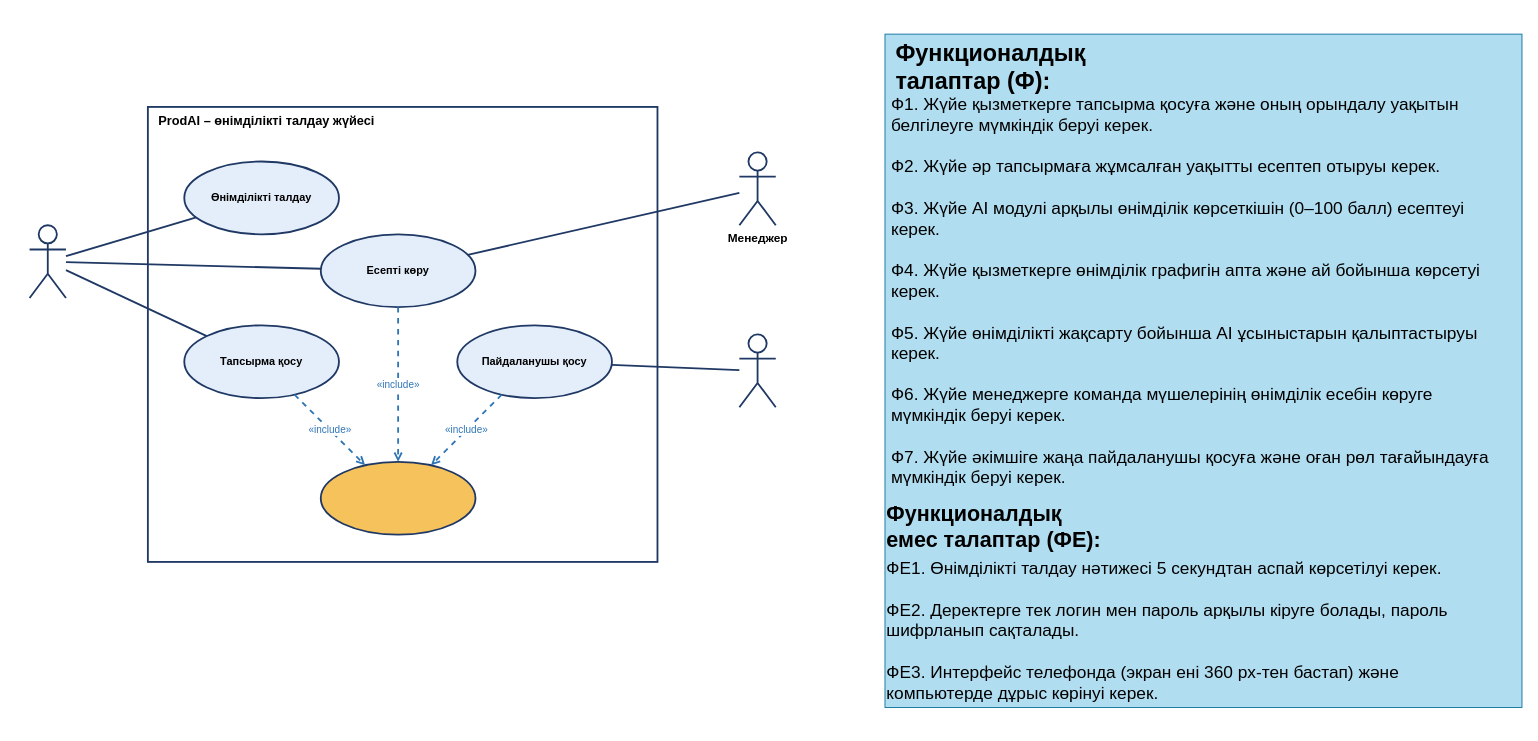
The diagram is 1538 pixels wide and 741 high, and some of its shapes have lost their labels. The shapes that lost their labels are listed below. From the top down, each one's centre as x and y in pixels, then its label:
At point (47, 261): "Қызметкер".
At point (757, 370): "Админ".
At point (397, 497): "Жүйеге кіру".
